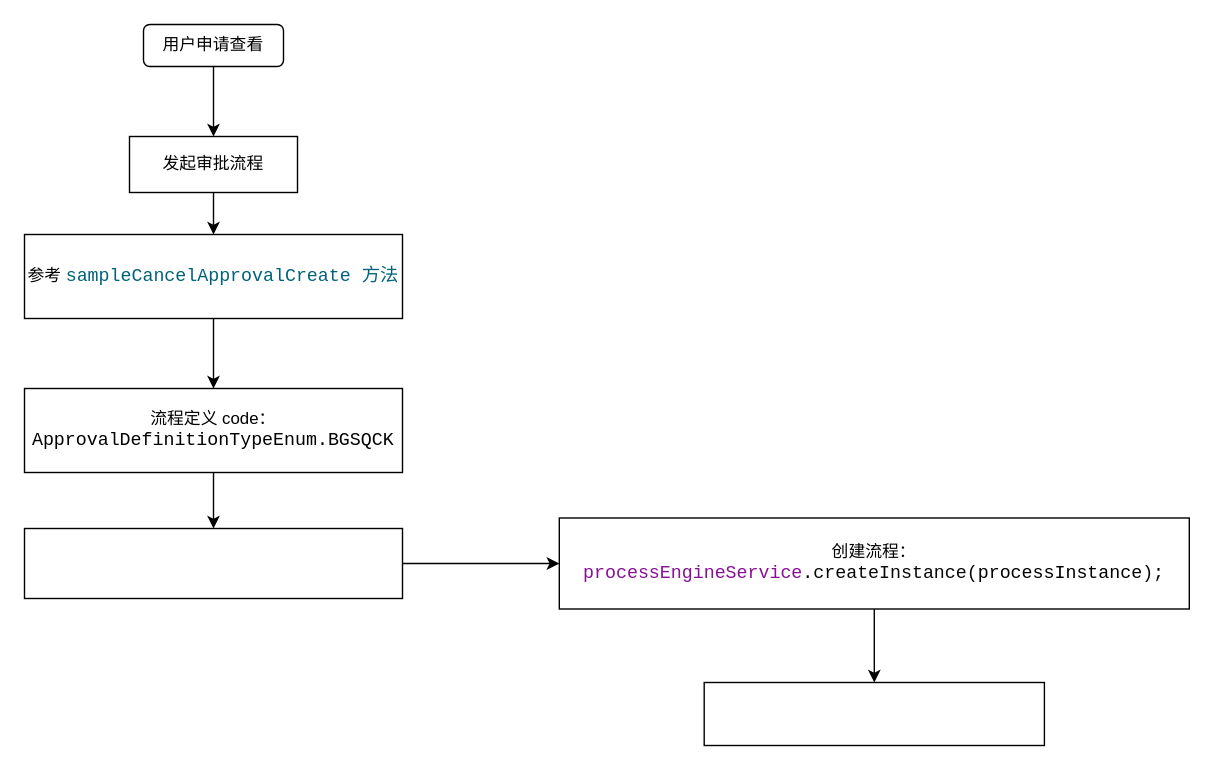
This 1214x770 diagram has some shape labels left out. Here are the shapes that lost their labels. From the top down, the centre of each, then its label:
At point (212, 562): "通过 code 查询流程定义 id".
At point (873, 713): "根据流程定义配置的节点进行审批".
